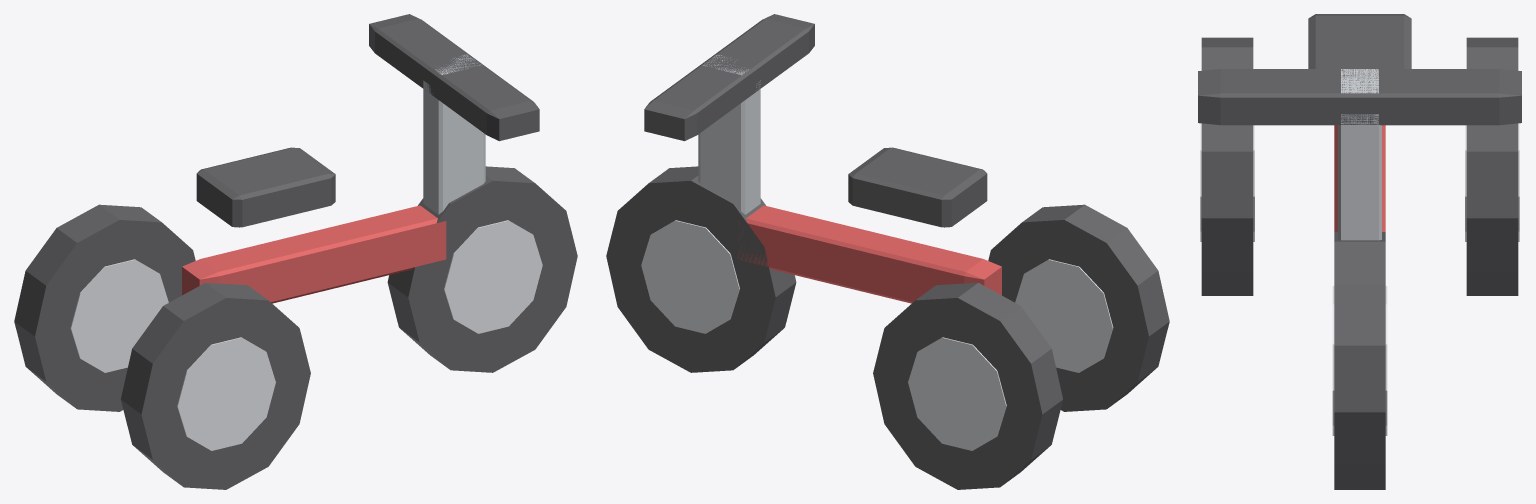
File: b03_recumbent_tadpole_tricycle.glb
The picture shows the model from 3 angles, left to right: view 1: azimuth 30°, elevation 25°; view 2: azimuth 150°, elevation 25°; view 3: azimuth 270°, elevation 25°; orthographic projection. The views are drawn at different scales.
Parts seen in each view (by area): view 1: b03_recumbent_tadpole_tricycle; view 2: b03_recumbent_tadpole_tricycle; view 3: b03_recumbent_tadpole_tricycle.
Part boxes in pixels (bbox=[...]): b03_recumbent_tadpole_tricycle: bbox=[14, 14, 577, 489]; b03_recumbent_tadpole_tricycle: bbox=[606, 14, 1169, 489]; b03_recumbent_tadpole_tricycle: bbox=[1198, 14, 1521, 489].
Bounding box in the file's own units: 2.23 × 1.34 × 1.03.
